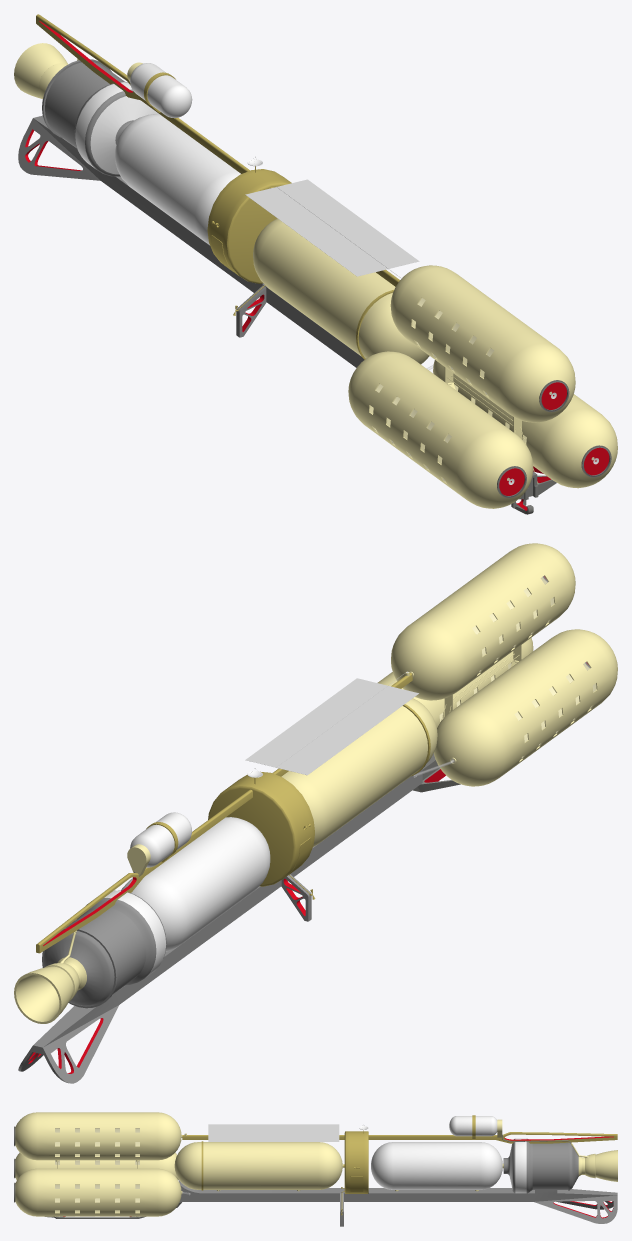
The model's file is NuclearPodShip.glb.
3 views of the same model, one above another, from view 1: azimuth 30°, elevation 25°; view 2: azimuth 150°, elevation 25°; view 3: azimuth 270°, elevation 25° (orthographic). The views are drawn at different scales.
Parts seen in each view (by area): view 1: PodShip-LOD0; view 2: PodShip-LOD0; view 3: PodShip-LOD0.
Boxes of the visible parts, x1,y1,x2,y2 form: PodShip-LOD0: [14, 14, 617, 514]; PodShip-LOD0: [14, 543, 617, 1083]; PodShip-LOD0: [14, 1112, 617, 1226].
Size of what is drawn, in the model's own units: 17.5 by 18.68 by 101.
